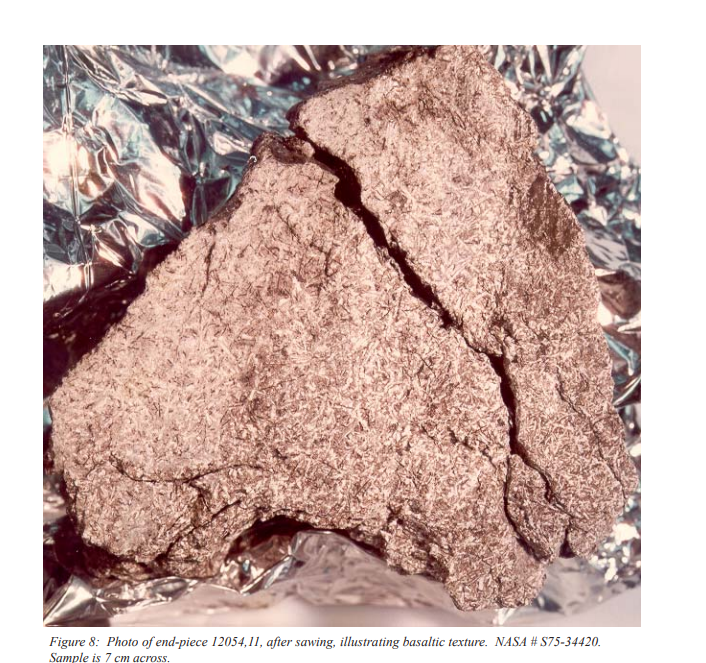Basalt: (296, 42, 628, 557), (85, 249, 590, 575), (269, 162, 569, 517)
